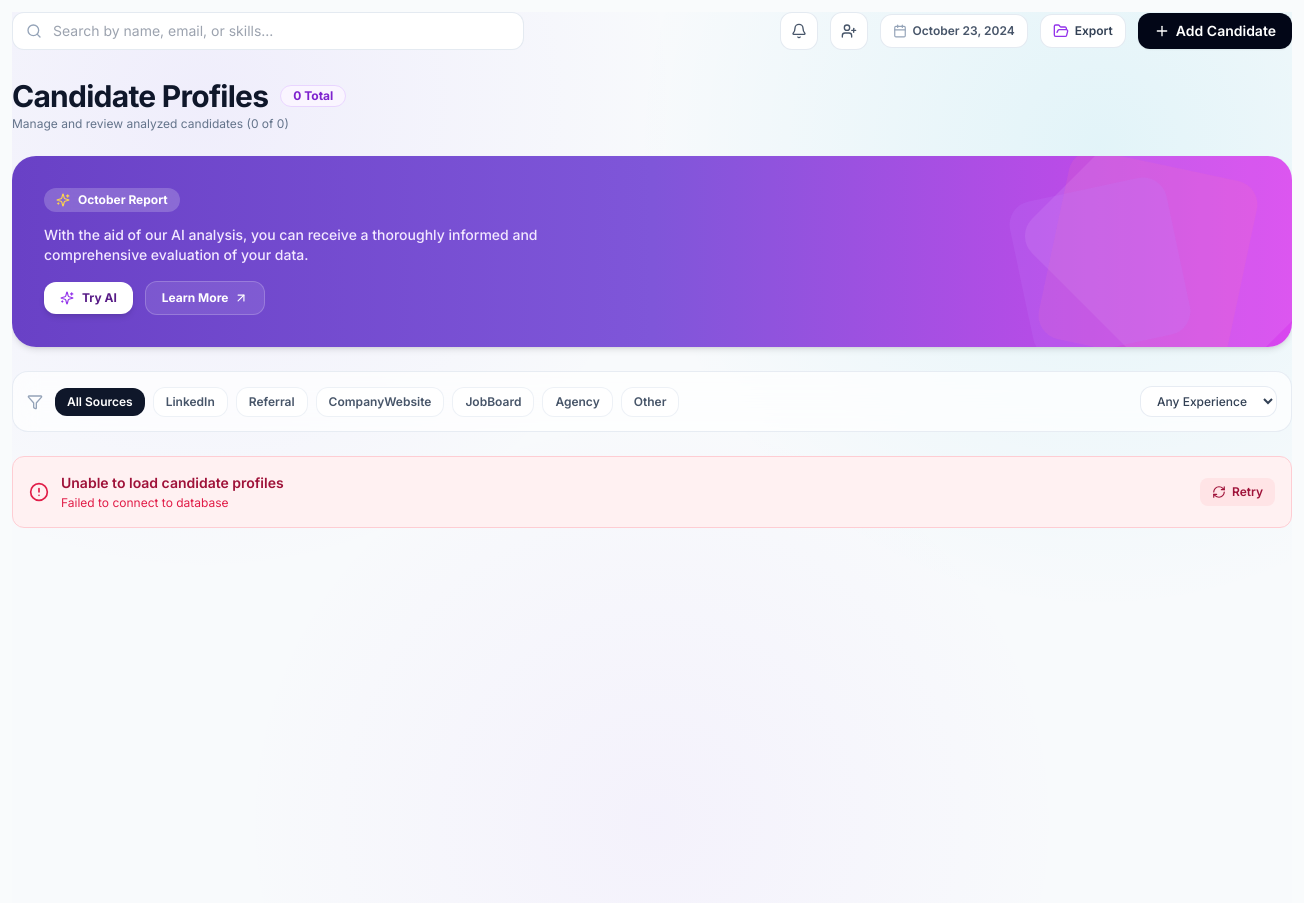
Test: CandidatesView Component — Phase 4 UI Verification › renders API error state with retry button when fetching fails
This screenshot has width=1304, height=903.
Check: the text "Unable to load candidate profiles" is shown, box [61, 473, 284, 493]
Check: the text "Failed to connect to database" is shown, box [61, 495, 228, 510]
Step 1. Click the button "Retry" → [1238, 492], box [1200, 478, 1275, 506]
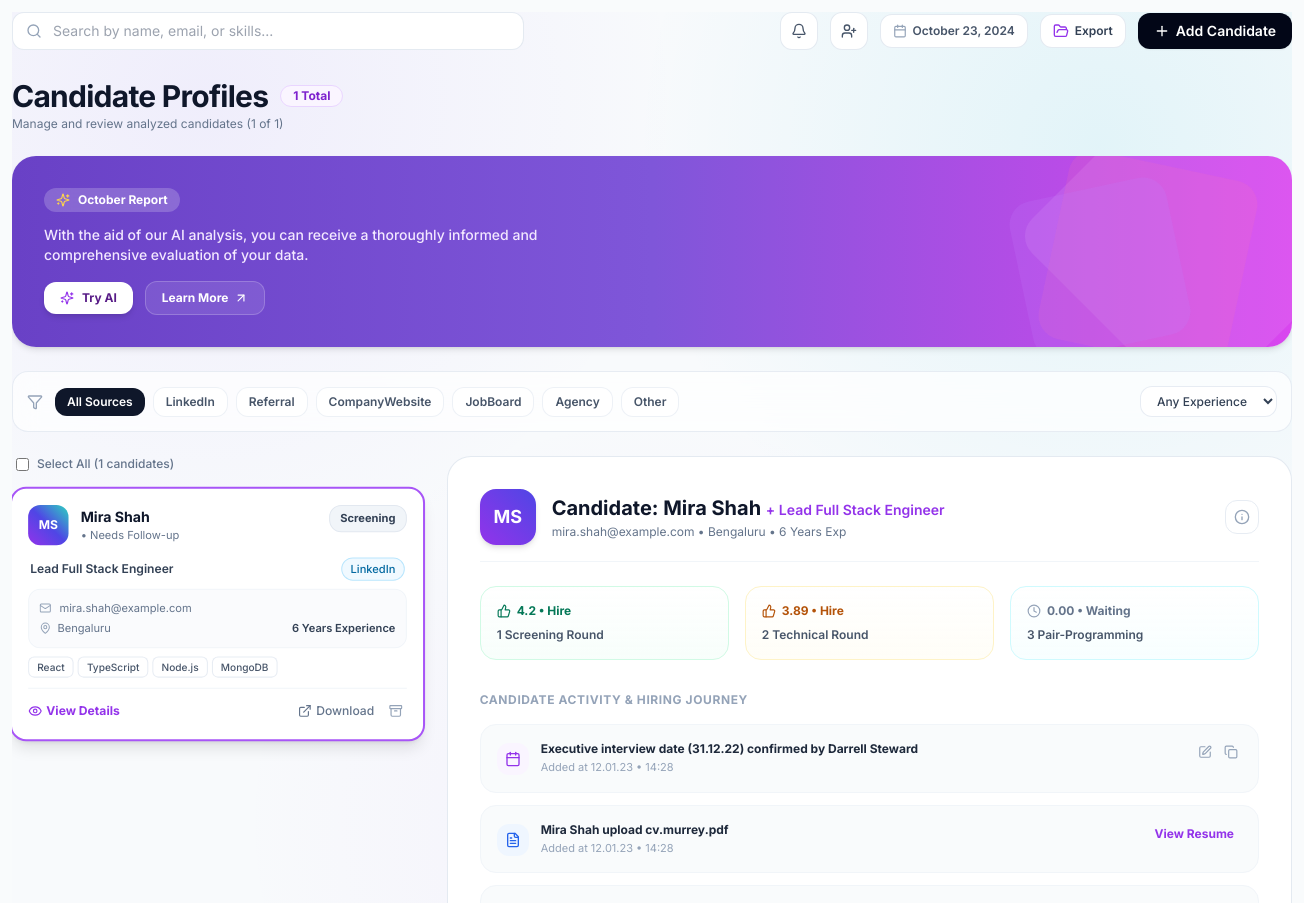
Check: the heading "Mira Shah" is shown, box [81, 508, 150, 525]
